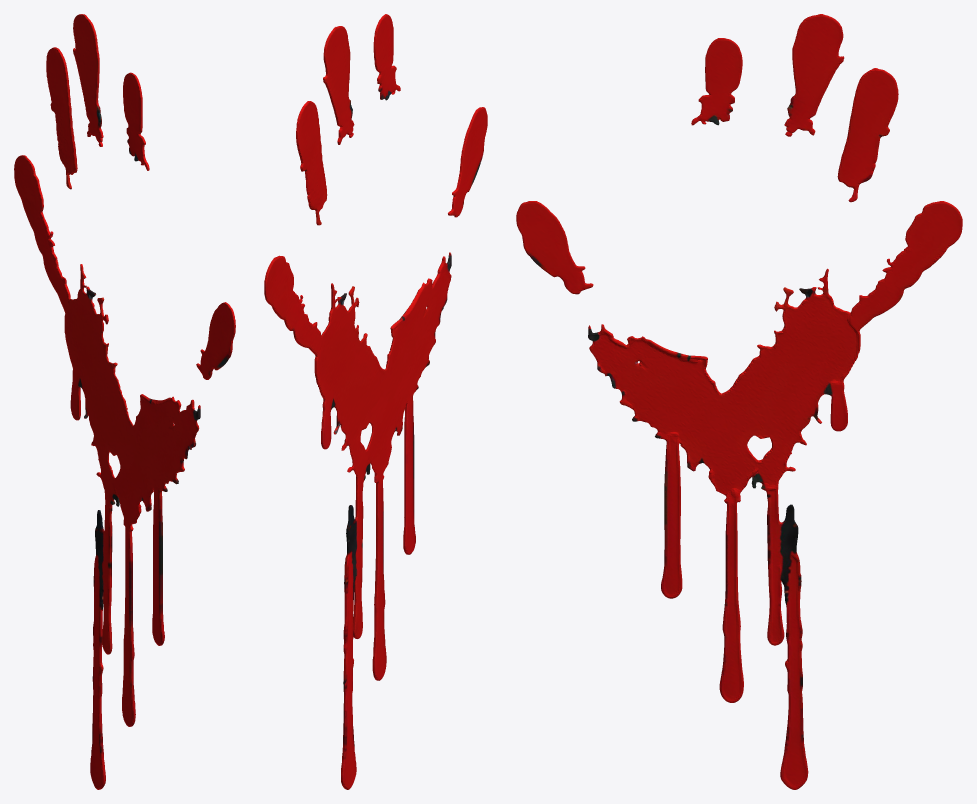
File: hand.glb
3 views of the same model, side by side, from view 1: azimuth 30°, elevation 25°; view 2: azimuth 150°, elevation 25°; view 3: azimuth 270°, elevation 25° (orthographic).
Parts seen in each view (by area): view 1: tripo_node_d766c29a-dab9-4e3b-b66c-05aa04598bba; view 2: tripo_node_d766c29a-dab9-4e3b-b66c-05aa04598bba; view 3: tripo_node_d766c29a-dab9-4e3b-b66c-05aa04598bba.
Part boxes in pixels (<box>): tripo_node_d766c29a-dab9-4e3b-b66c-05aa04598bba: <box>14,14,235,789</box>; tripo_node_d766c29a-dab9-4e3b-b66c-05aa04598bba: <box>264,14,487,789</box>; tripo_node_d766c29a-dab9-4e3b-b66c-05aa04598bba: <box>516,14,962,789</box>.
Size of the model in its own units: 0.00512 by 1 by 0.522.
Materials: 1 (1 with a texture image).
